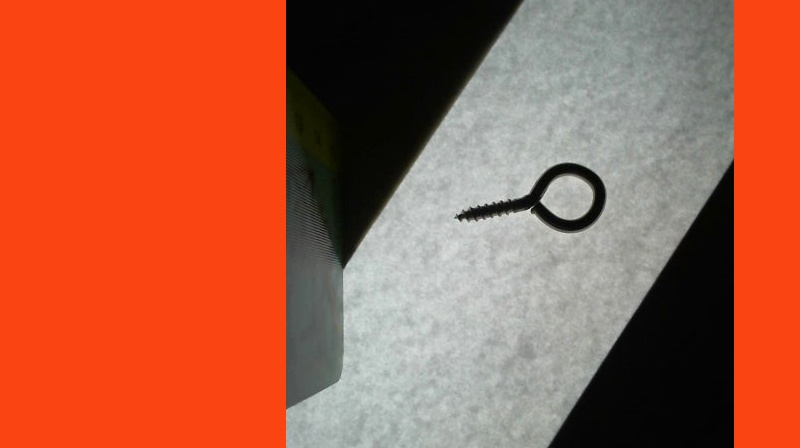O001: (449, 158, 608, 242)
